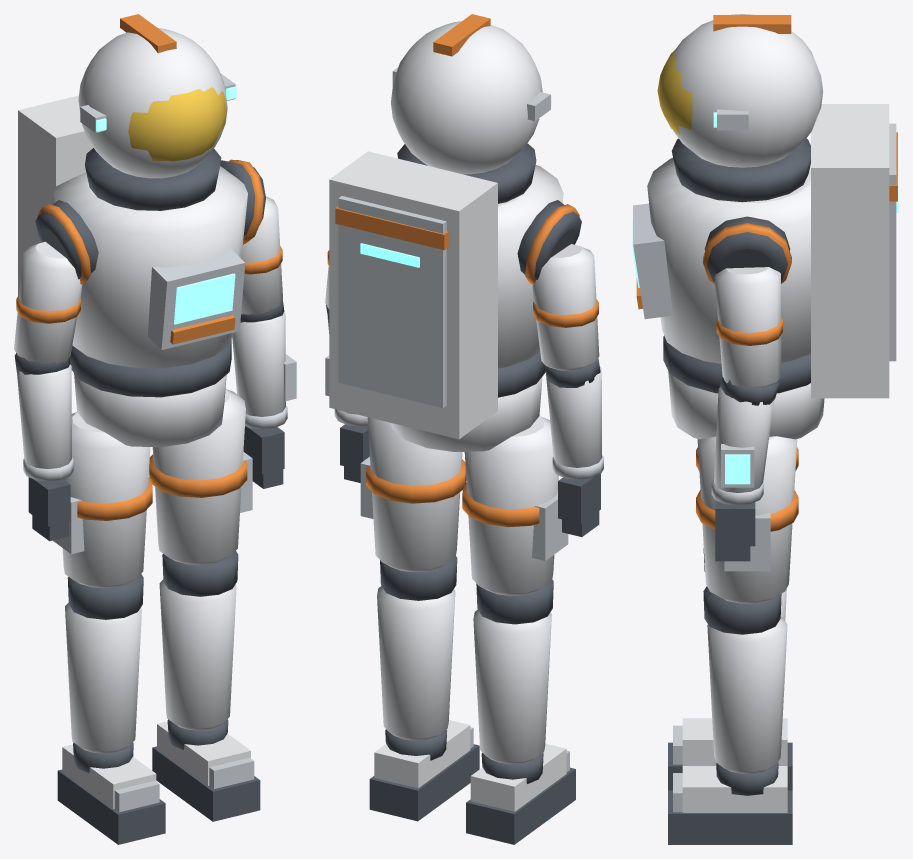
The picture shows the model from 3 angles, left to right: view 1: azimuth 30°, elevation 25°; view 2: azimuth 150°, elevation 25°; view 3: azimuth 270°, elevation 25°; orthographic projection. The views are drawn at different scales.
Parts seen in each view (by area): view 1: EVA_Suit_Player_Suit_Mesh, EVA_Suit_Player_Visor; view 2: EVA_Suit_Player_Suit_Mesh; view 3: EVA_Suit_Player_Suit_Mesh, EVA_Suit_Player_Visor.
Part boxes in pixels (left/top/right/bottom): EVA_Suit_Player_Suit_Mesh: left=14, top=14, right=296, bottom=844; EVA_Suit_Player_Visor: left=128, top=87, right=226, bottom=161; EVA_Suit_Player_Suit_Mesh: left=325, top=14, right=603, bottom=844; EVA_Suit_Player_Suit_Mesh: left=632, top=14, right=898, bottom=844; EVA_Suit_Player_Visor: left=657, top=49, right=692, bottom=134.
Bounding box in the file's own units: 0.647 × 1.78 × 0.5452.
